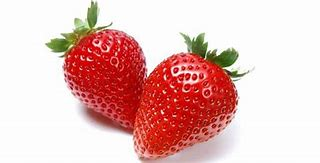Fresa: (133, 48, 238, 161), (58, 22, 151, 133)
